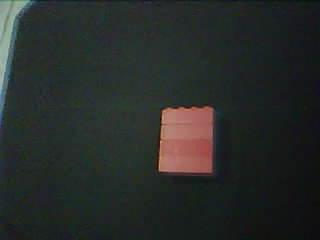lego: (157, 105, 217, 177)
